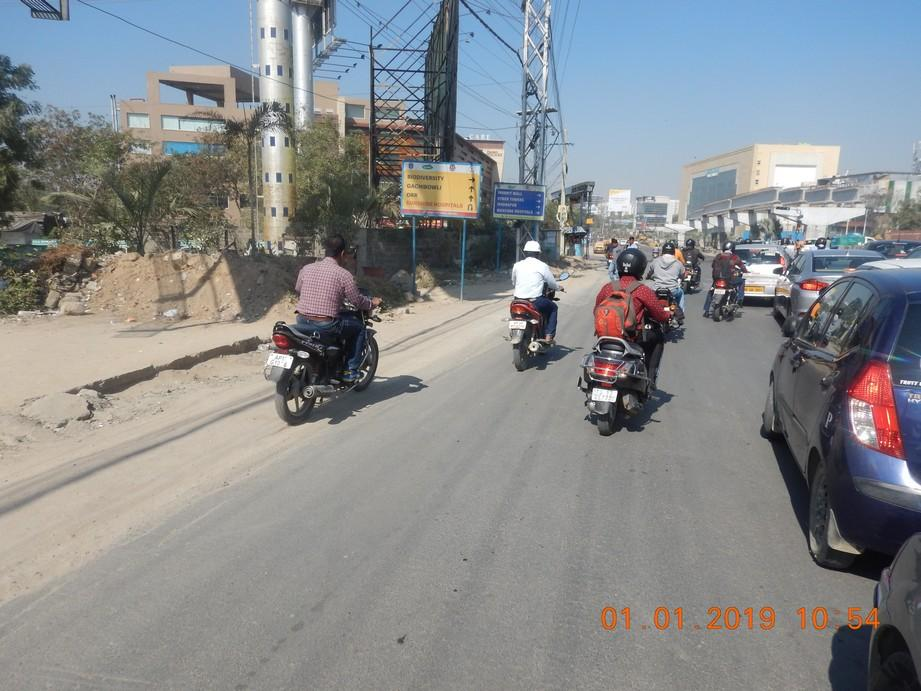plate: (267, 351, 294, 370), (590, 387, 617, 404)
